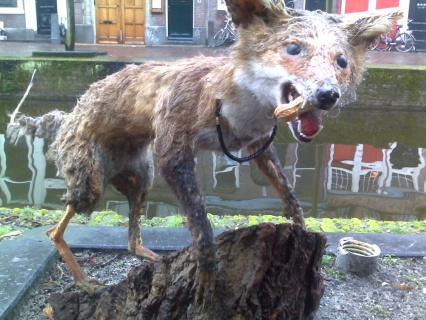Fox: (4, 0, 405, 309)
